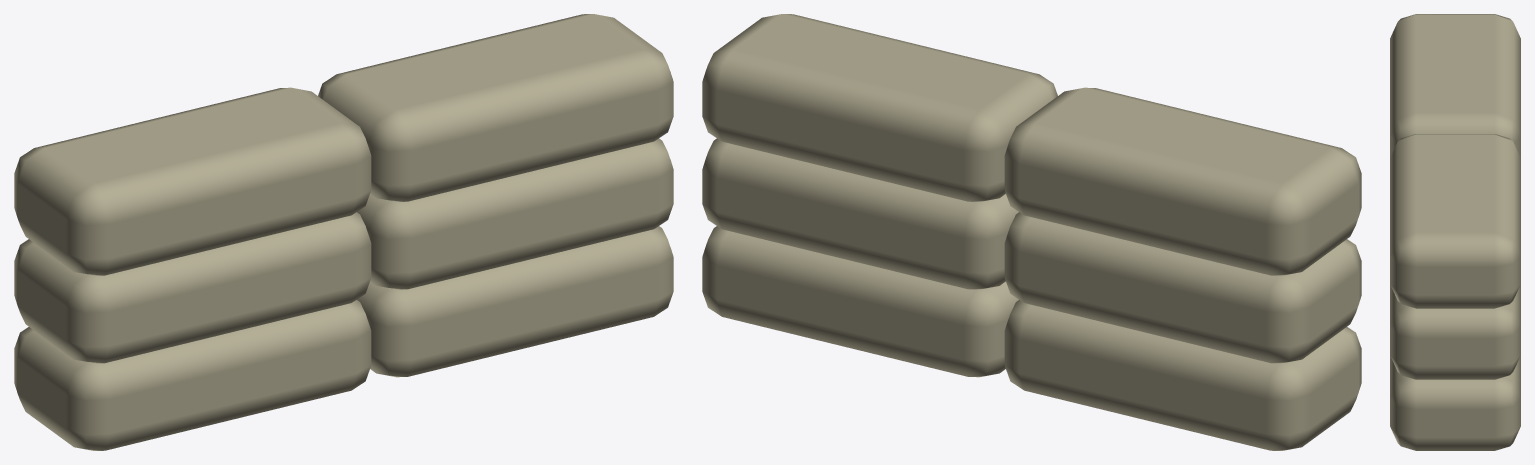
File: undercity-sewers-and-thieves-den-sandbag-stack-91a6782f__27219.glb
3 renders of one model, left to right at view 1: azimuth 30°, elevation 25°; view 2: azimuth 150°, elevation 25°; view 3: azimuth 270°, elevation 25°, orthographic. The views are drawn at different scales.
Visible parts, largest first — view 1: sandbag-stack; view 2: sandbag-stack; view 3: sandbag-stack.
Boxes of the visible parts, box(x1,y1,x2,y2) form: sandbag-stack: box(14, 14, 673, 450); sandbag-stack: box(702, 14, 1361, 450); sandbag-stack: box(1390, 14, 1520, 450).
Bounding box in the file's own units: 1.3 × 0.5499 × 0.2999.
